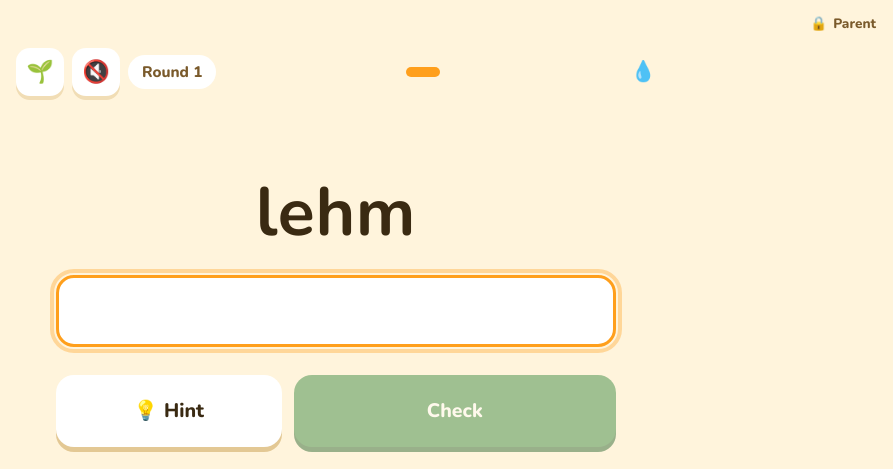
Scenario: word garden › waters the garden like a training and tells how many plants grew
Expected: the text "lehm" is shown, top-left (256, 176), bottom-right (416, 251)
Type "cow" into the field named "Your answer". click: point(336, 311)
box: top-left (56, 275), bottom-right (616, 347)
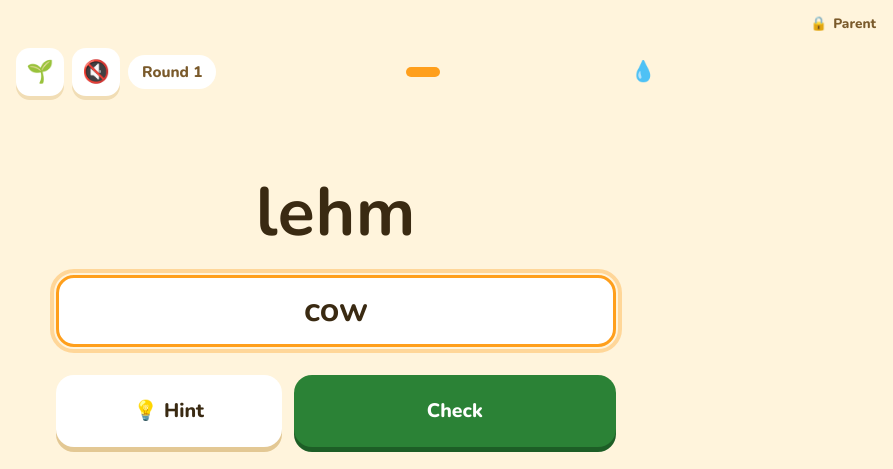
Click the button "Check". click: point(455, 411)
box: top-left (294, 375), bottom-right (616, 447)
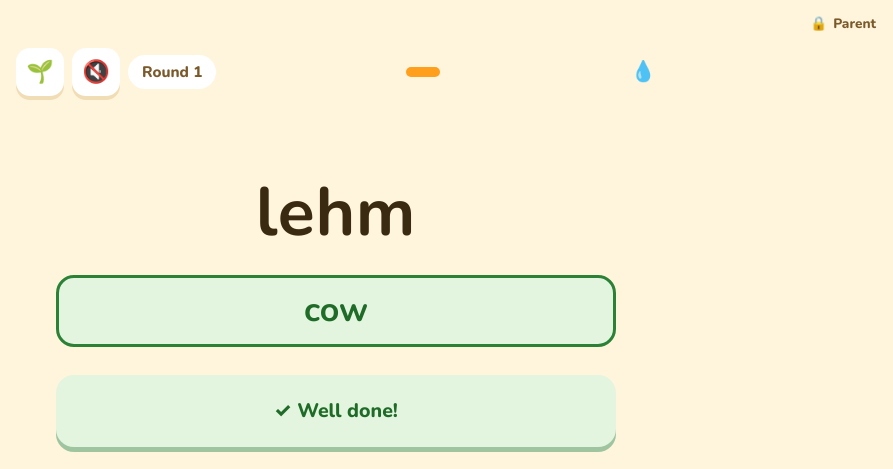
Click the button "✓ Well done!". click: point(336, 411)
box: top-left (56, 375), bottom-right (616, 447)
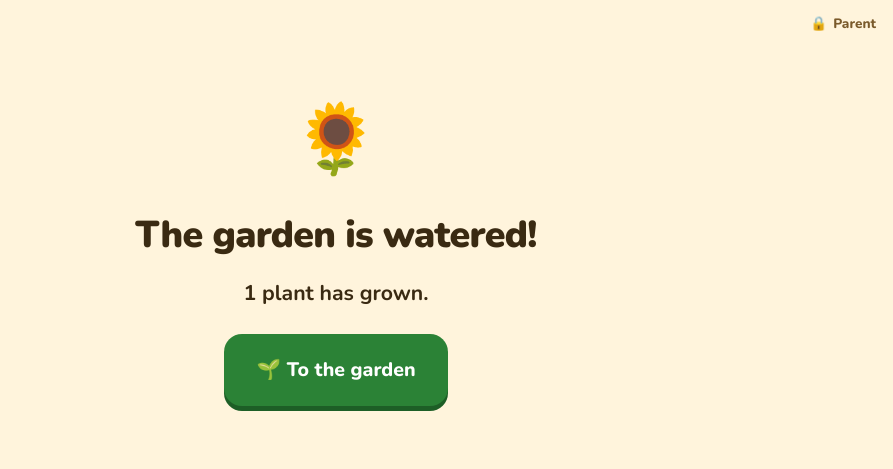
Now the heading "The garden is watered!" is shown, box top-left (135, 214), bottom-right (537, 255)
Now the text "1 plant has grown." is shown, box top-left (244, 279), bottom-right (428, 310)
